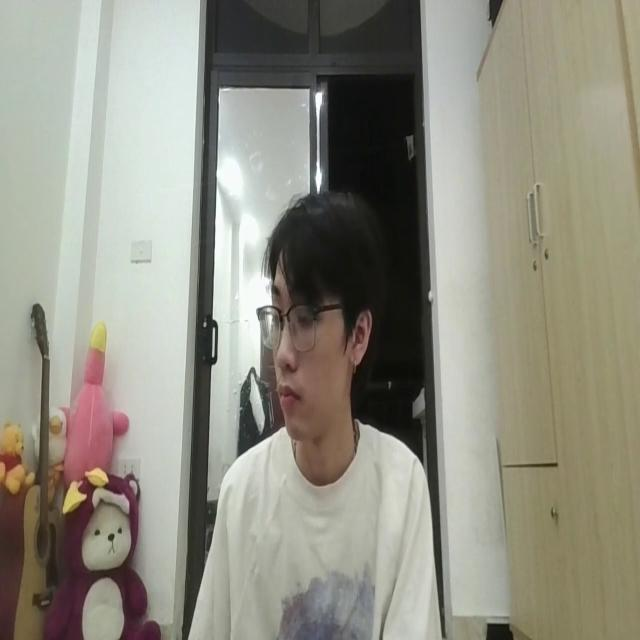student: (184, 190, 439, 640)
